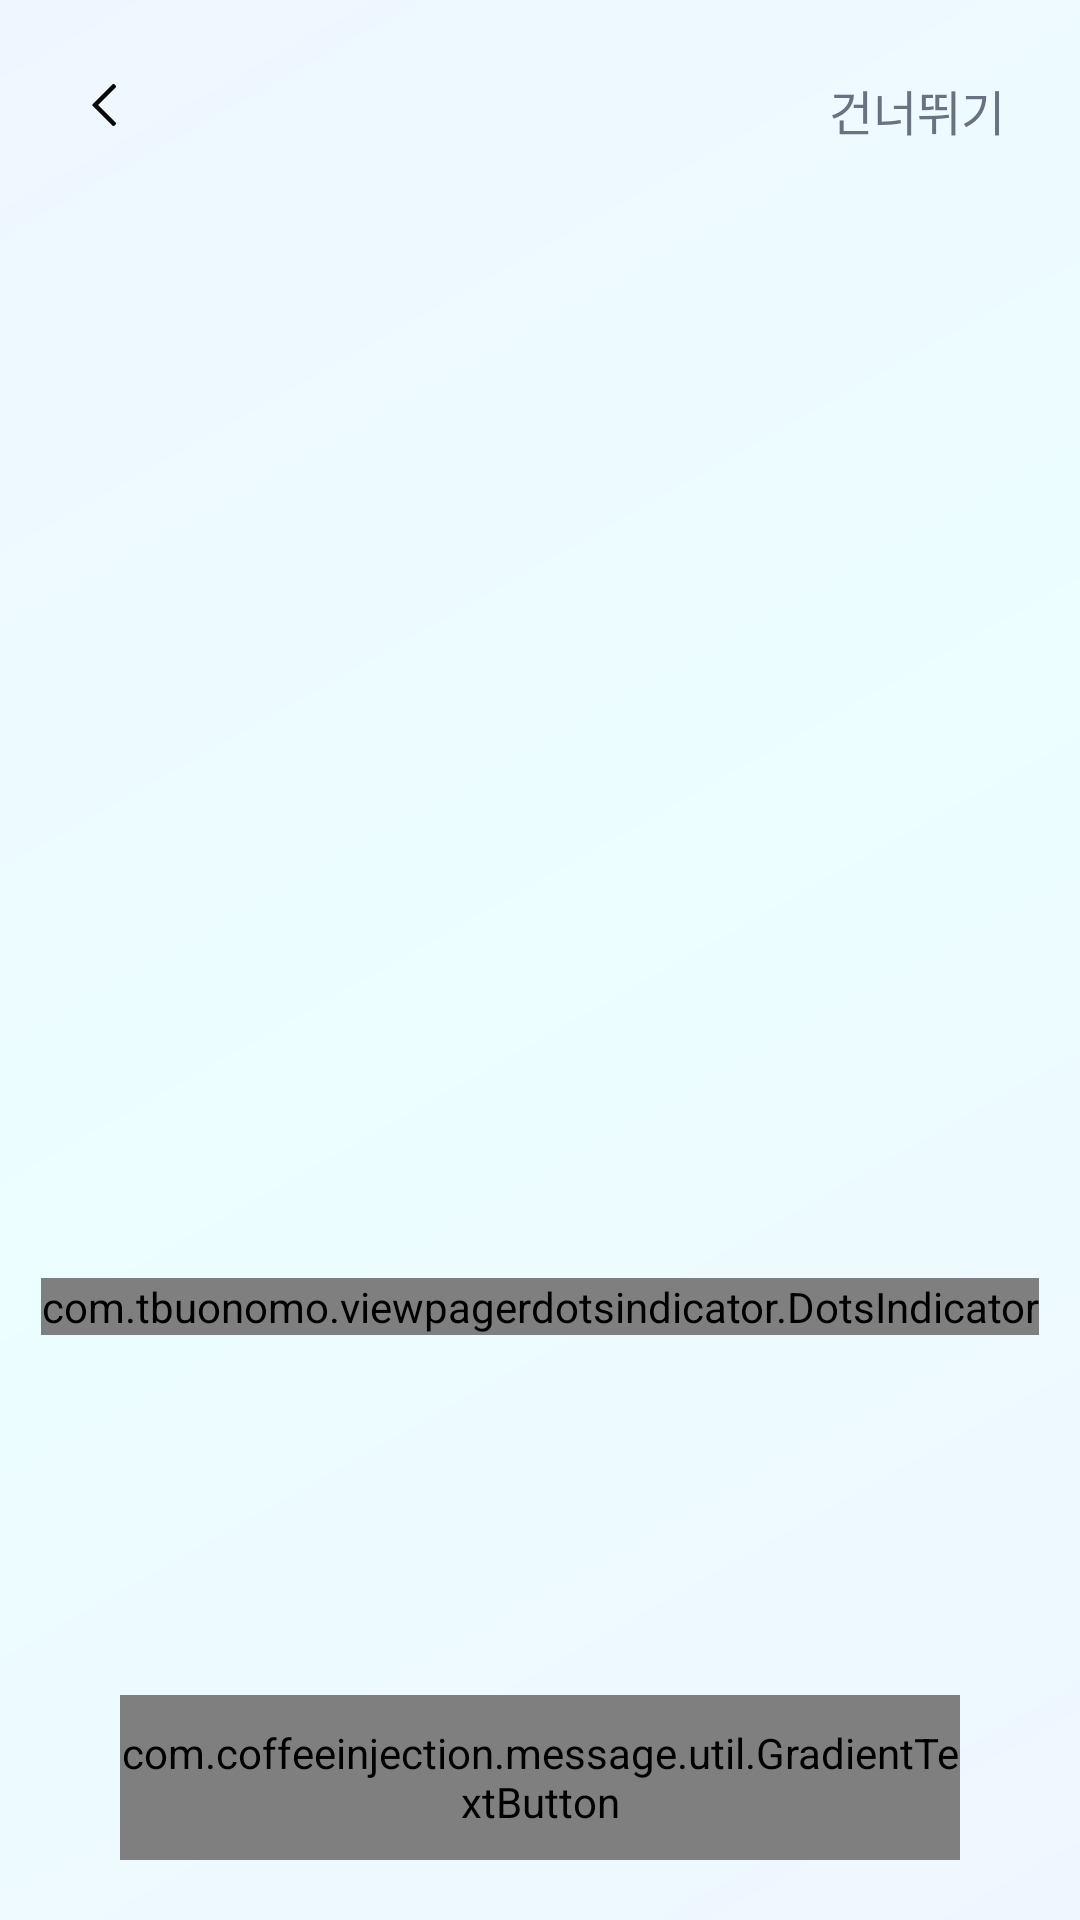

Screen size 1080w x 1920h. Icon name, then its center in pixels as [x,y]:
back: [104,105]
